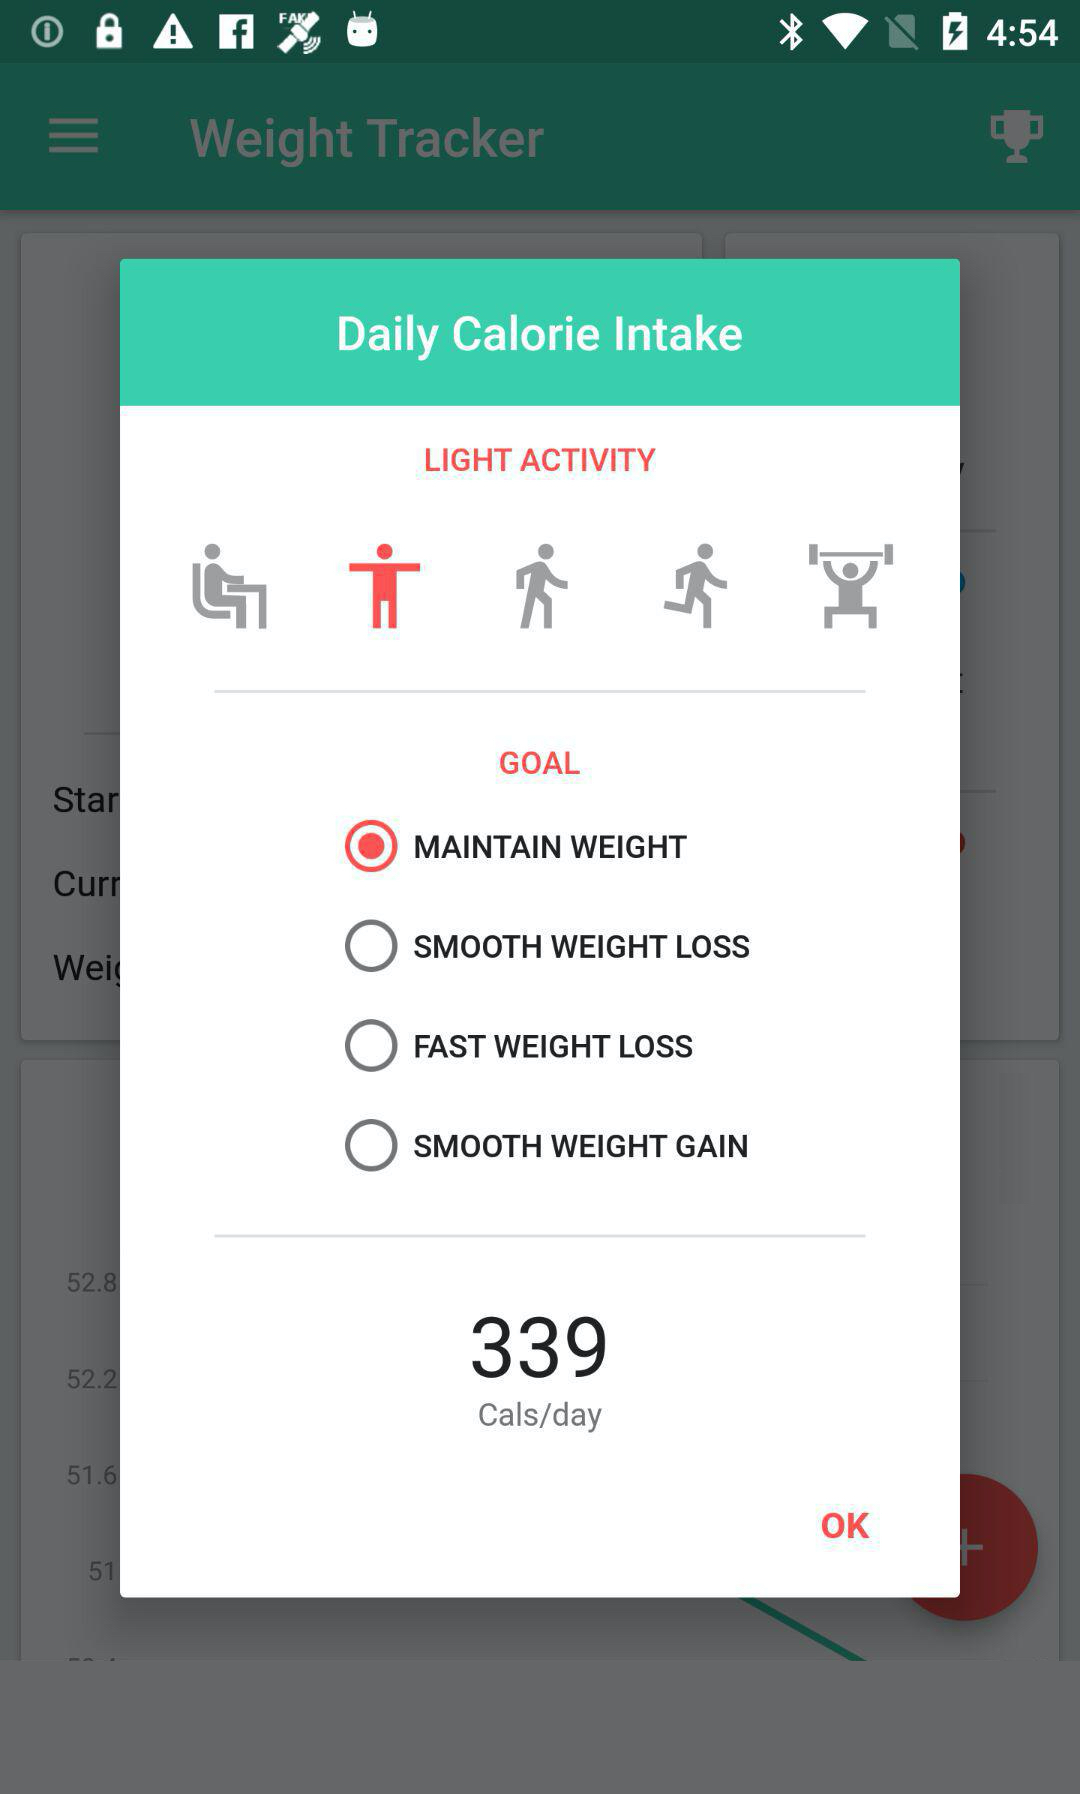CheckedTextView: (345, 918, 751, 973), (345, 1117, 748, 1173), (345, 1019, 693, 1074), (345, 819, 689, 873)
Icon: (989, 110, 1045, 165), (47, 117, 100, 156)
Image: (808, 543, 896, 630), (192, 543, 269, 630), (348, 543, 421, 630), (664, 543, 729, 630), (515, 543, 570, 630)
Modal: (120, 259, 961, 1599)
Text: (338, 313, 744, 364), (188, 117, 544, 169), (471, 1315, 607, 1380), (414, 934, 751, 959), (413, 1134, 748, 1158), (415, 834, 689, 860), (415, 1034, 693, 1058), (425, 447, 659, 473), (478, 1401, 603, 1433), (500, 750, 582, 777), (821, 1511, 871, 1540)
UpperTaskBar: (1, 1, 1080, 64)
